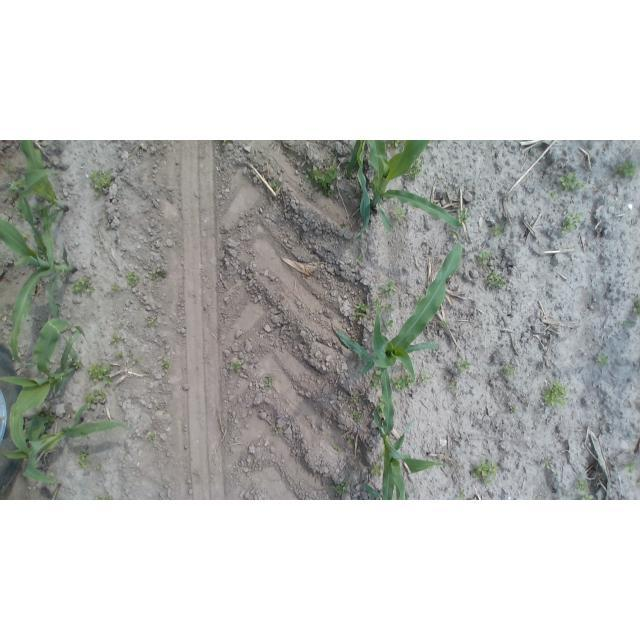Maize: (336, 231, 462, 385), (0, 182, 78, 366), (0, 317, 90, 456), (1, 401, 136, 483), (373, 353, 446, 500), (365, 141, 463, 235), (8, 141, 70, 212), (345, 140, 372, 237)
Weeds: (311, 160, 339, 197), (542, 380, 569, 409), (89, 169, 116, 198), (471, 459, 501, 484), (32, 409, 56, 435), (558, 173, 587, 193), (88, 363, 113, 386), (611, 160, 637, 180), (559, 212, 583, 233), (71, 277, 95, 296), (486, 269, 507, 288), (86, 389, 108, 405), (330, 480, 352, 496), (378, 279, 396, 298), (393, 373, 412, 391), (372, 299, 392, 315), (352, 301, 368, 319), (407, 159, 421, 179), (476, 250, 492, 267), (150, 268, 167, 283), (491, 222, 506, 238), (125, 270, 139, 287), (457, 208, 471, 225), (394, 204, 407, 222), (371, 370, 382, 391), (455, 358, 470, 373), (575, 477, 590, 492), (379, 301, 395, 315), (78, 450, 89, 470), (596, 350, 609, 366), (370, 460, 383, 476), (501, 364, 515, 378), (229, 360, 244, 372), (263, 377, 275, 390), (387, 141, 404, 150), (36, 204, 48, 216), (110, 333, 122, 345), (625, 461, 636, 474), (419, 373, 430, 386), (352, 410, 363, 423), (161, 359, 171, 373), (620, 320, 636, 328), (455, 490, 469, 499), (93, 493, 114, 499), (543, 458, 554, 469), (14, 203, 22, 217), (269, 181, 279, 192), (73, 359, 83, 370), (383, 319, 394, 329), (146, 317, 156, 327), (109, 282, 119, 292), (348, 395, 358, 405), (347, 436, 356, 447), (301, 173, 310, 184), (549, 191, 558, 202), (579, 493, 595, 499), (449, 382, 458, 392), (272, 427, 282, 436), (147, 433, 157, 442), (331, 444, 341, 453), (439, 320, 448, 329), (416, 293, 424, 303), (356, 255, 364, 264), (632, 302, 638, 314), (509, 406, 517, 414), (116, 350, 124, 358), (127, 350, 134, 358), (24, 234, 31, 242), (562, 493, 570, 500), (221, 140, 230, 146), (95, 464, 102, 471)
